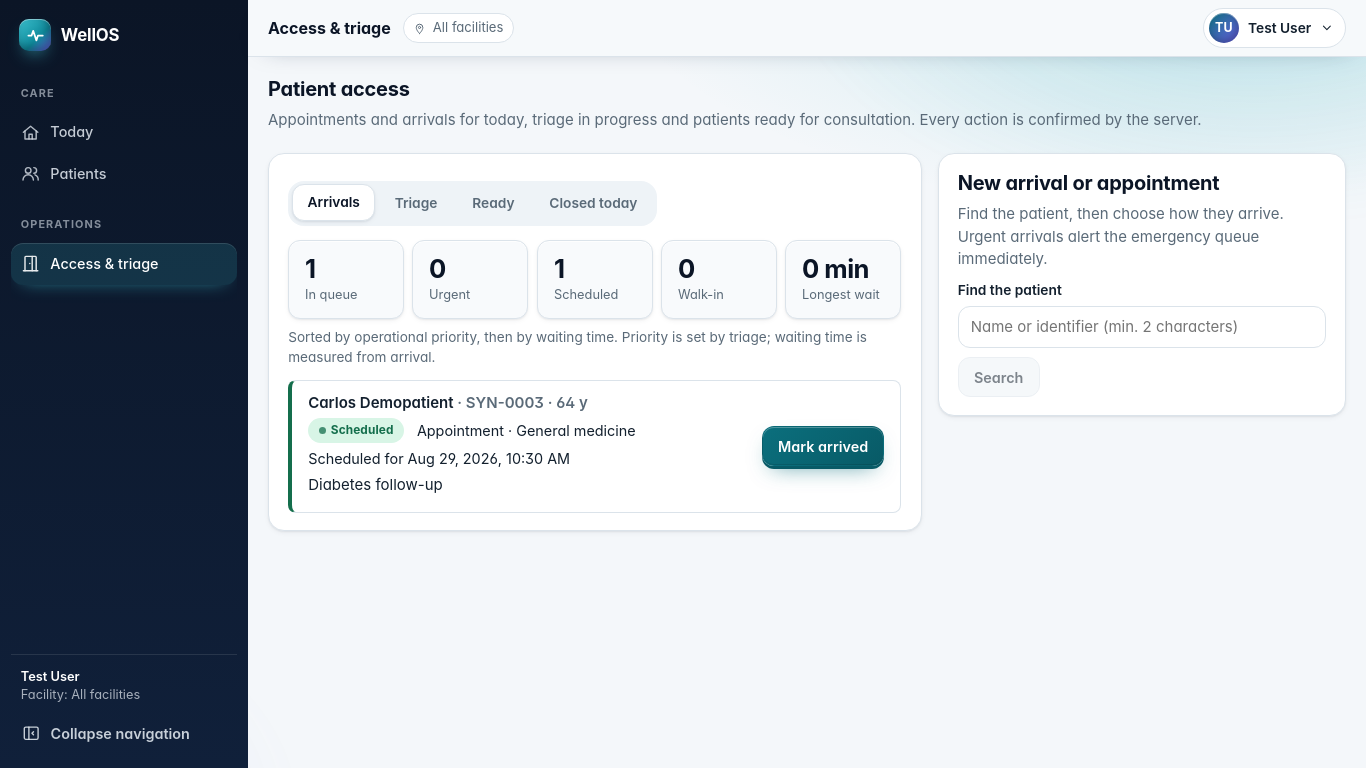
Test: patient access board › explains a version conflict and reloads the current state
Click the button "Mark arrived".
click(823, 446)  # box [762,426,884,466]
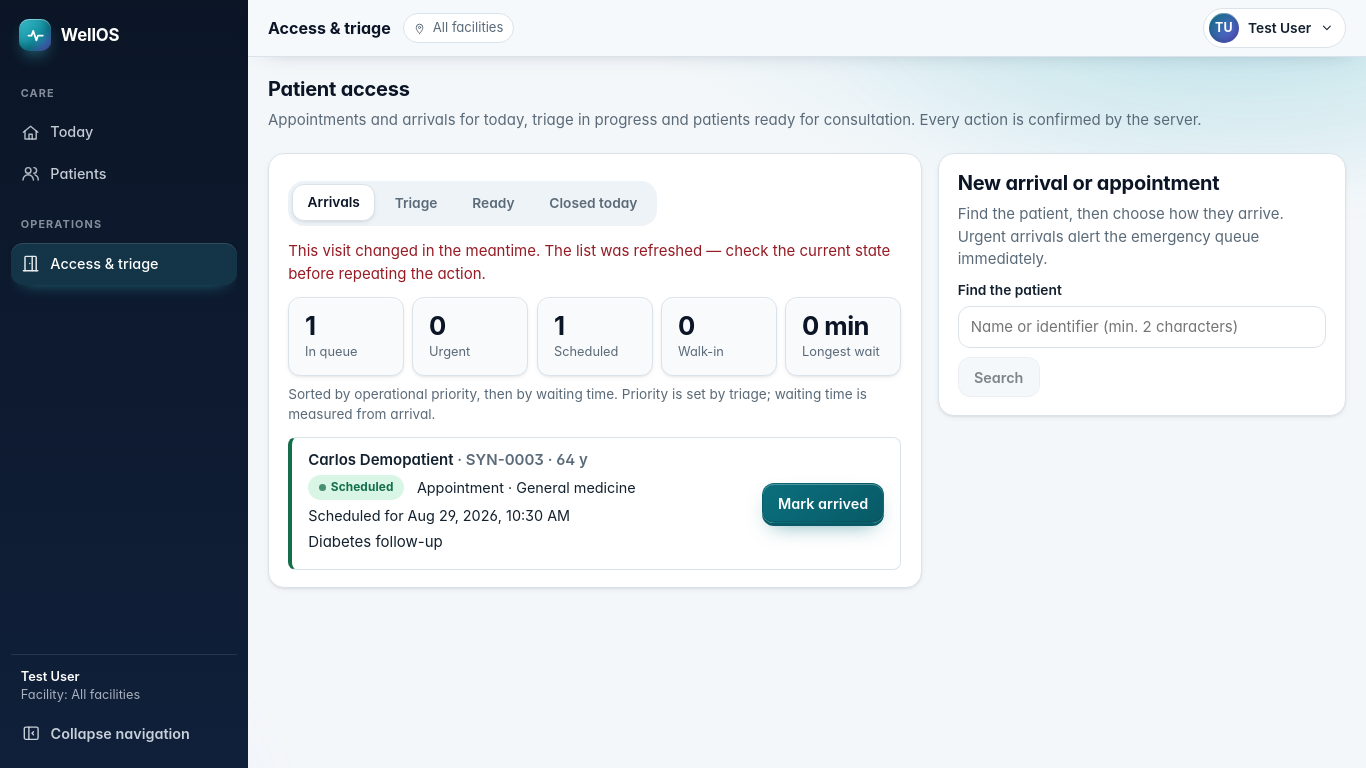
expect the message shows "changed in the meantime": met, box [288,241,890,282]
